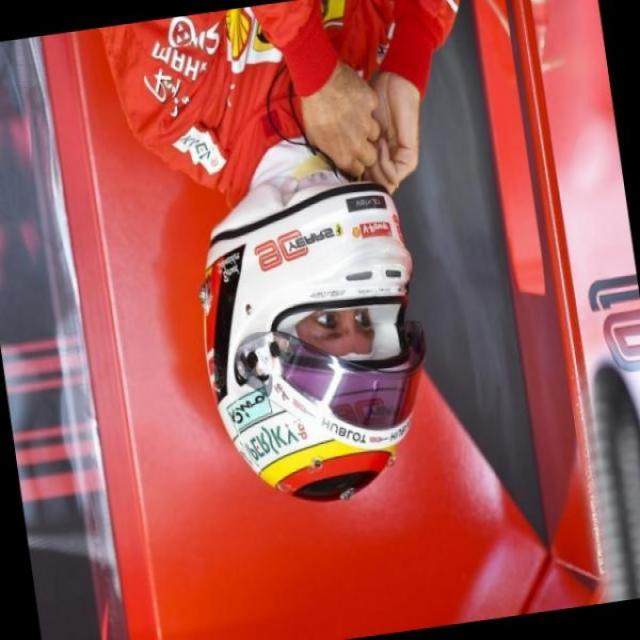Helmet: (204, 174, 428, 514)
